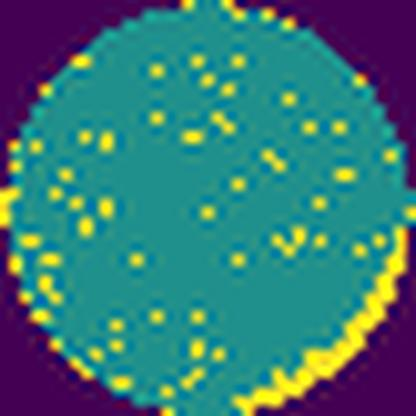Edge-Loc: (231, 220, 415, 416)
